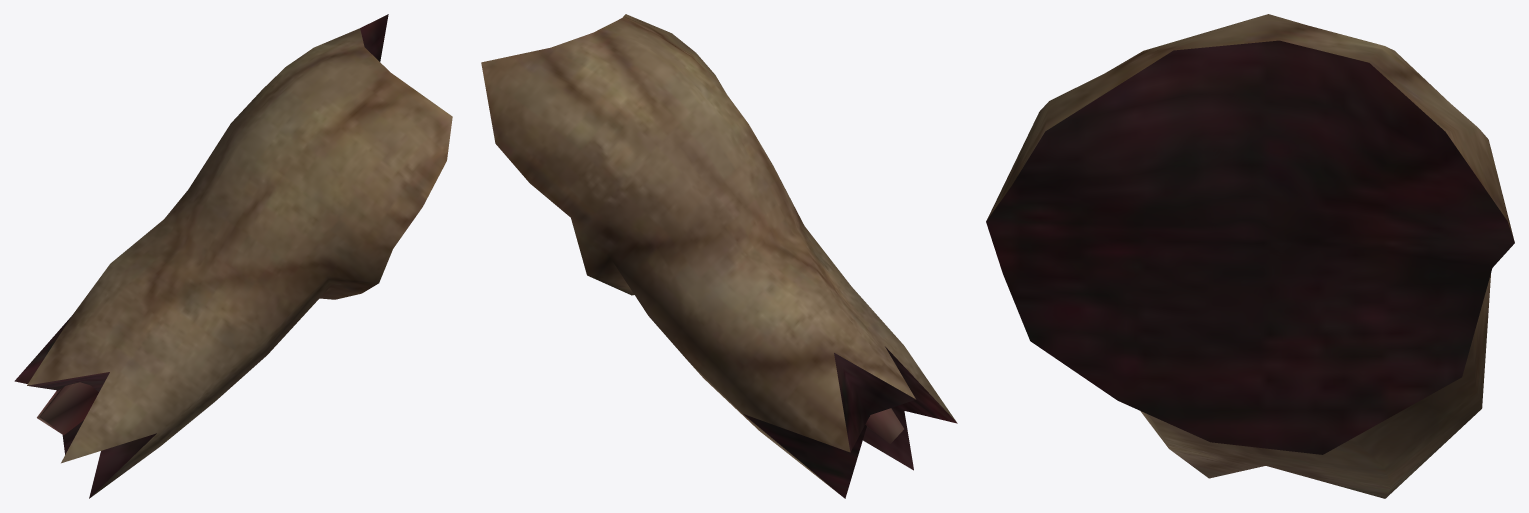
Rendered from Z_R_Upperarm.fbx.
3 views of the same model, side by side, from view 1: azimuth 30°, elevation 25°; view 2: azimuth 150°, elevation 25°; view 3: azimuth 270°, elevation 25° (orthographic). The views are drawn at different scales.
Visible parts, largest first — view 1: Z_R_Upperarm; view 2: Z_R_Upperarm; view 3: Z_R_Upperarm.
Part boxes in pixels (x1,y1,x2,y2): Z_R_Upperarm: [14, 14, 452, 498]; Z_R_Upperarm: [481, 14, 957, 498]; Z_R_Upperarm: [986, 14, 1514, 498].
Bounding box in the file's own units: 2837 × 2516 × 1679.
1 material, 1 textured.
